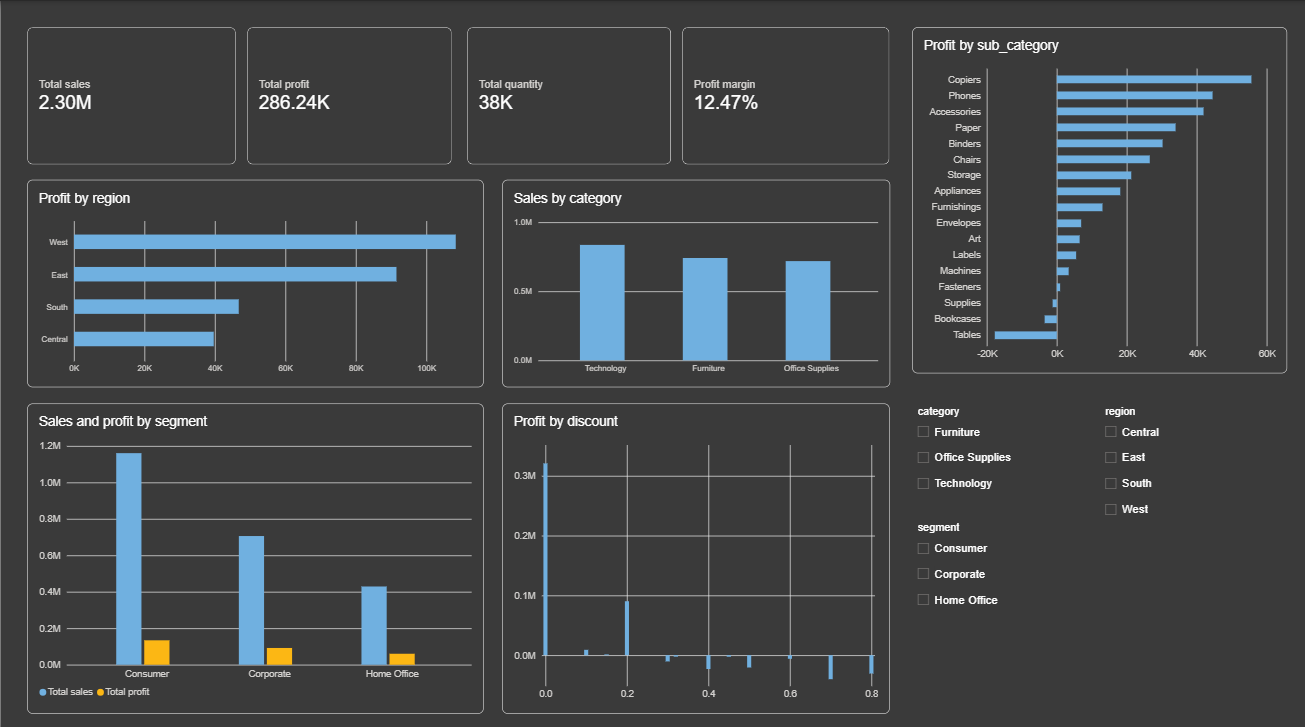

What the dashboard file says about the page in this screenshot:
{"tool":"powerbi","page":{"name":"Ecommmmerce Sales and Profitability","canvas":[1920,1080],"ordinal":0},"visuals":[{"type":"cardVisual","fields":{"Data":["superstore_clean.Total_sales"]},"box":[38.7,38.7,307.4,202.5],"z":0},{"type":"cardVisual","fields":{"Data":["superstore_clean.Total_profit"]},"box":[362.6,38.7,301.8,202.5],"z":1000},{"type":"cardVisual","fields":{"Data":["superstore_clean.Total_quantity"]},"box":[686.5,38.7,300,202.5],"z":2000},{"type":"clusteredColumnChart","title":"Sales by category","fields":{"Category":["superstore_clean.category"],"Y":["superstore_clean.Total_sales"]},"box":[738,263.2,570.9,305.7],"z":3000},{"type":"clusteredBarChart","title":"Profit by region","fields":{"Category":["superstore_clean.region"],"Y":["superstore_clean.Total_profit"]},"box":[38.7,263.2,671.8,305.5],"z":4000},{"type":"clusteredBarChart","title":"Profit by sub_category","fields":{"Category":["superstore_clean.sub_category"],"Y":["superstore_clean.Total_profit"]},"box":[1341.7,38.7,552.2,509.8],"z":5000},{"type":"clusteredColumnChart","title":"Sales and profit by segment","fields":{"Category":["superstore_clean.segment"],"Y":["superstore_clean.Total_sales","superstore_clean.Total_profit"]},"box":[38.7,592.6,671.8,456.4],"z":6000},{"type":"clusteredColumnChart","title":"Profit by discount","fields":{"Category":["superstore_clean.discount"],"Y":["superstore_clean.Total_profit"]},"box":[738,592.6,570.6,456.4],"z":7000},{"type":"slicer","fields":{"Values":["superstore_clean.region"]},"box":[1617.8,594.5,255.8,178.5],"z":8000},{"type":"slicer","fields":{"Values":["superstore_clean.category"]},"box":[1341.7,594.5,255.8,152.8],"z":9000},{"type":"slicer","fields":{"Values":["superstore_clean.segment"]},"box":[1341.7,765.6,224.5,156.4],"z":10000},{"type":"cardVisual","fields":{"Data":["superstore_clean.Profit_margin"]},"box":[1003.1,38.7,305.5,202.5],"z":11000},{"type":"textbox","box":[1342,922,225,150],"z":11001}]}

Visuals, with their boxes in screenshot pixels (x1, y1, x2, y2), scaled from the page's 1920x1080 canvas onto the 1305x727 screenshot:
cardVisual - superstore_clean.Total_sales: [left=26, top=26, right=235, bottom=162]
cardVisual - superstore_clean.Total_profit: [left=246, top=26, right=452, bottom=162]
cardVisual - superstore_clean.Total_quantity: [left=467, top=26, right=671, bottom=162]
"Sales by category" clusteredColumnChart: [left=502, top=177, right=890, bottom=383]
"Profit by region" clusteredBarChart: [left=26, top=177, right=483, bottom=383]
"Profit by sub_category" clusteredBarChart: [left=912, top=26, right=1287, bottom=369]
"Sales and profit by segment" clusteredColumnChart: [left=26, top=399, right=483, bottom=706]
"Profit by discount" clusteredColumnChart: [left=502, top=399, right=889, bottom=706]
slicer - superstore_clean.region: [left=1100, top=400, right=1273, bottom=520]
slicer - superstore_clean.category: [left=912, top=400, right=1086, bottom=503]
slicer - superstore_clean.segment: [left=912, top=515, right=1065, bottom=621]
cardVisual - superstore_clean.Profit_margin: [left=682, top=26, right=889, bottom=162]
textbox: [left=912, top=621, right=1065, bottom=722]
